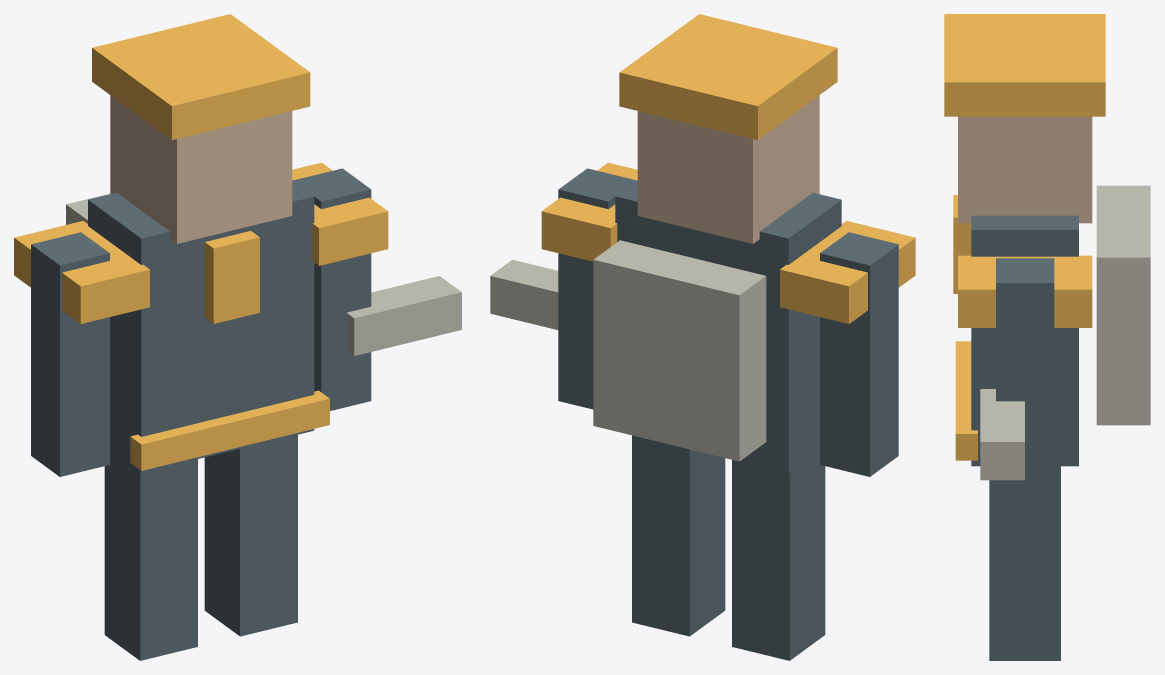
The model's file is 09_vale_rootborne_guide_from_quarantine.glb.
3 renders of one model, left to right at view 1: azimuth 30°, elevation 25°; view 2: azimuth 150°, elevation 25°; view 3: azimuth 270°, elevation 25°, orthographic.
Visible parts, largest first — view 1: Vale Rootborne, Guide from Quarantine; view 2: Vale Rootborne, Guide from Quarantine; view 3: Vale Rootborne, Guide from Quarantine.
Part boxes in pixels (bbox=[...]): Vale Rootborne, Guide from Quarantine: bbox=[14, 14, 461, 660]; Vale Rootborne, Guide from Quarantine: bbox=[490, 14, 915, 660]; Vale Rootborne, Guide from Quarantine: bbox=[944, 14, 1150, 660].
Size of the model in its own units: 1.02 by 1.41 by 0.4598.
